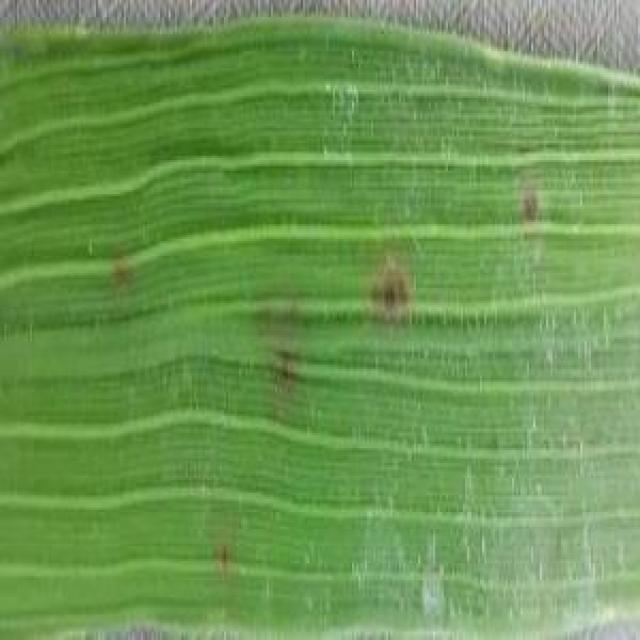brownspots: (357, 264, 422, 328)
